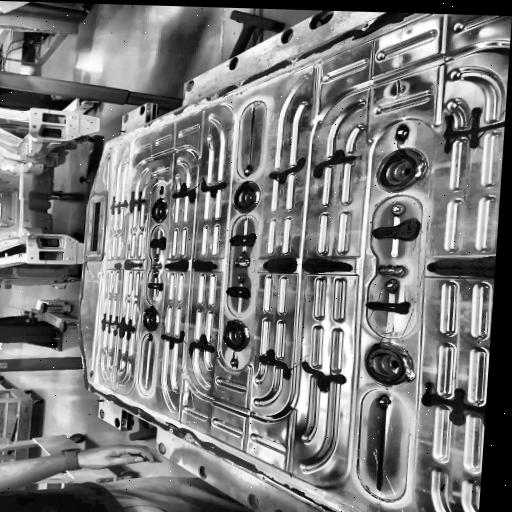b_casing: (76, 10, 512, 512)
